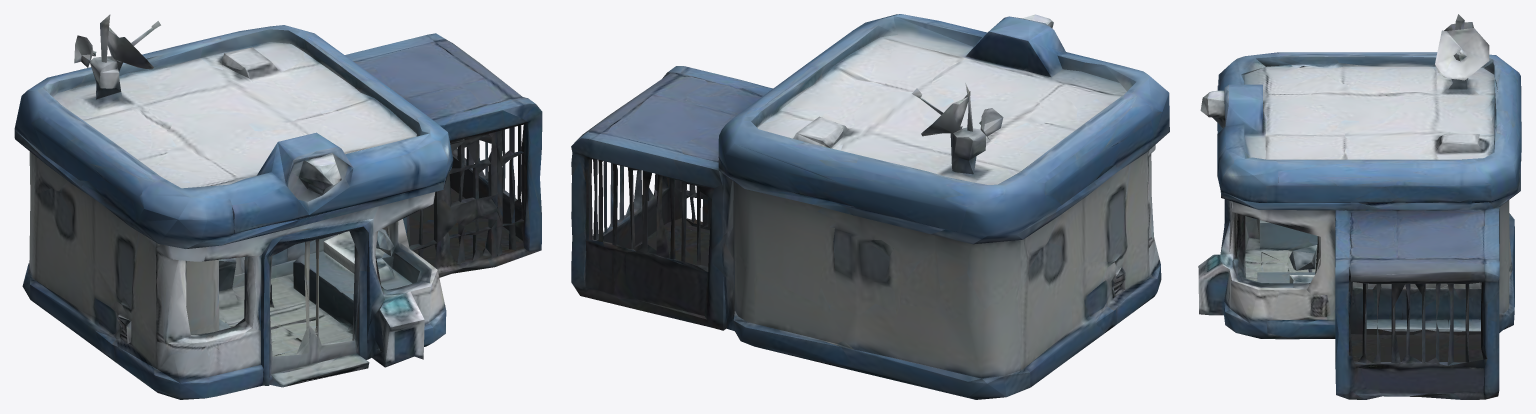
File: delegacia.glb
3 views of the same model, side by side, from view 1: azimuth 30°, elevation 25°; view 2: azimuth 150°, elevation 25°; view 3: azimuth 270°, elevation 25° (orthographic). The views are drawn at different scales.
Parts seen in each view (by area): view 1: delegacia; view 2: delegacia; view 3: delegacia.
Boxes of the visible parts, left/top/right/bottom form: delegacia: left=14, top=14, right=542, bottom=399; delegacia: left=571, top=14, right=1169, bottom=399; delegacia: left=1198, top=14, right=1521, bottom=399.
Bounding box in the file's own units: 12.99 × 7.84 × 9.7.
1 material, 1 textured.
